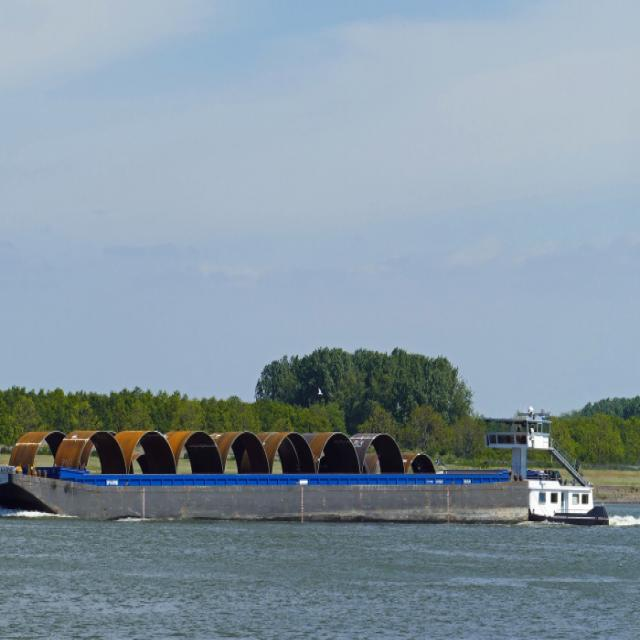tugboat: (448, 406, 615, 534)
